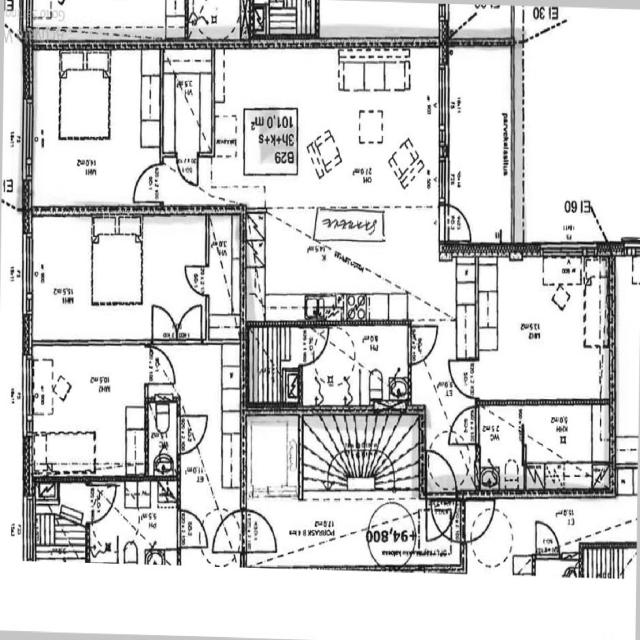door: (147, 299, 205, 347), (243, 508, 278, 554), (464, 498, 496, 544), (176, 412, 208, 456), (427, 497, 457, 543), (149, 302, 181, 342), (174, 302, 206, 342), (212, 512, 244, 552), (409, 322, 438, 365), (146, 345, 176, 386), (426, 449, 456, 490), (132, 162, 162, 202), (89, 482, 116, 524), (448, 359, 477, 398), (533, 519, 561, 559), (301, 325, 327, 366), (178, 510, 206, 548), (449, 407, 478, 443), (182, 263, 208, 297), (177, 153, 199, 186)
window: (435, 57, 453, 134), (19, 96, 36, 174), (538, 239, 594, 260), (21, 229, 36, 306), (21, 352, 36, 424), (437, 150, 450, 206), (317, 402, 347, 421)
zone: (214, 48, 441, 204), (28, 214, 207, 341), (29, 46, 162, 211), (475, 254, 610, 405), (27, 343, 153, 477), (446, 46, 513, 246), (298, 322, 410, 410), (89, 477, 180, 566), (521, 404, 610, 493), (162, 52, 214, 156), (244, 325, 303, 408), (34, 479, 90, 558), (476, 404, 524, 492), (206, 213, 241, 321), (146, 399, 179, 476), (186, 0, 246, 42), (243, 508, 278, 555), (442, 205, 471, 243)
